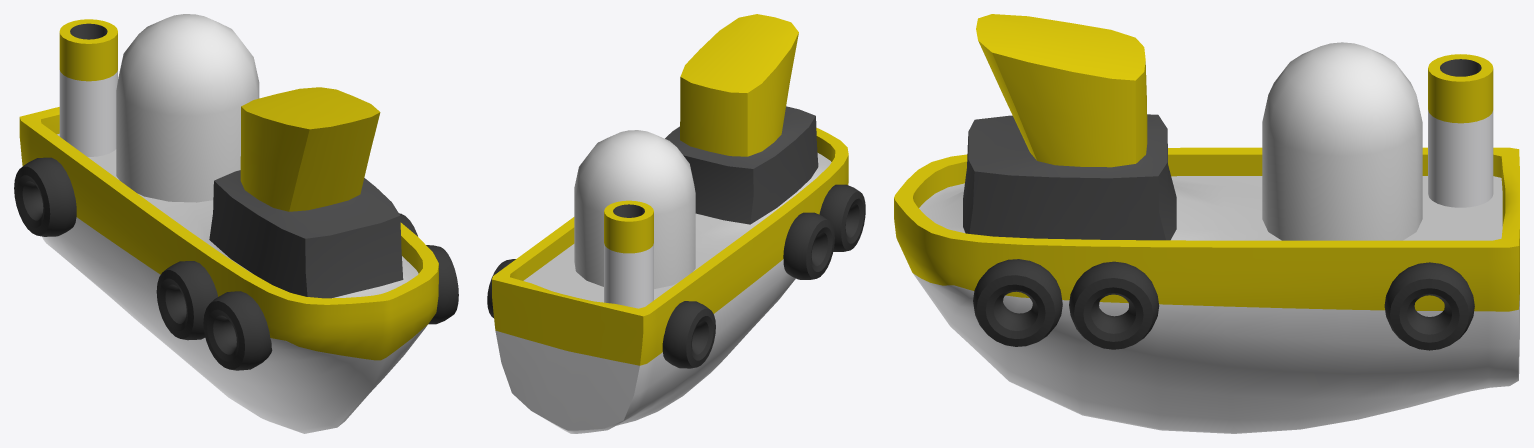
The model's file is shippy.glb.
3 views of the same model, side by side, from view 1: azimuth 30°, elevation 25°; view 2: azimuth 150°, elevation 25°; view 3: azimuth 270°, elevation 25° (orthographic). The views are drawn at different scales.
Parts seen in each view (by area): view 1: SHIPPY; view 2: SHIPPY; view 3: SHIPPY.
Part boxes in pixels (x1,y1,x2,y2): SHIPPY: [14, 14, 458, 433]; SHIPPY: [487, 14, 865, 433]; SHIPPY: [894, 14, 1519, 433].
Size of the model in its own units: 2.58 by 3.78 by 5.29.
